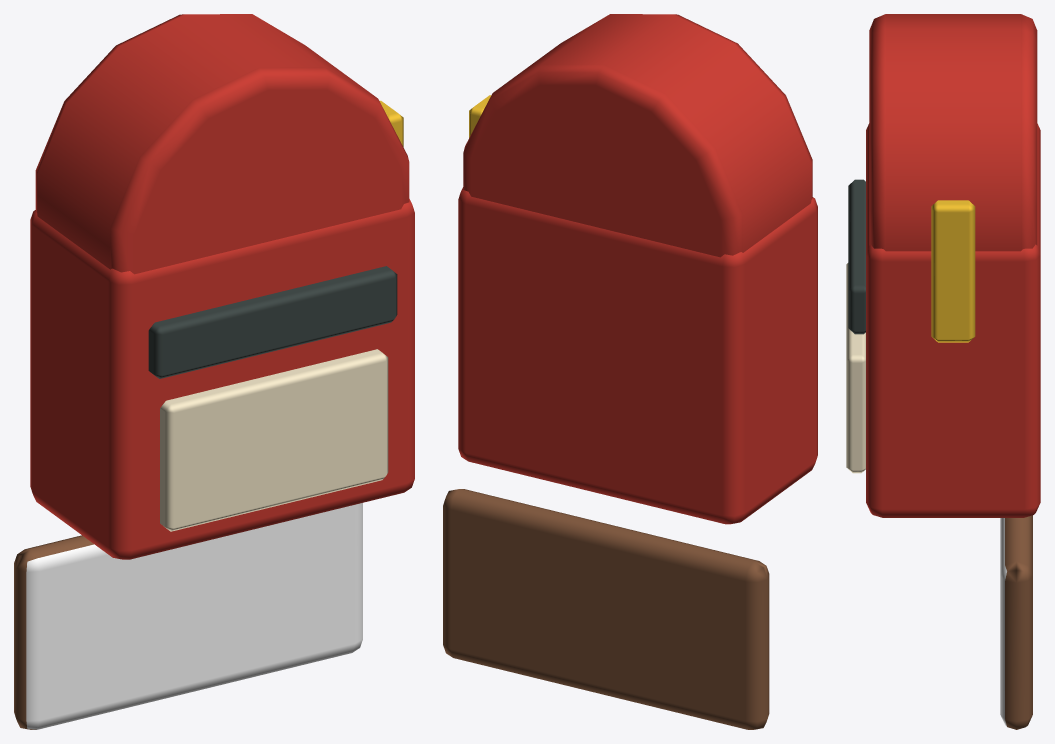
File: prop_mailbox.glb
3 renders of one model, left to right at view 1: azimuth 30°, elevation 25°; view 2: azimuth 150°, elevation 25°; view 3: azimuth 270°, elevation 25°, orthographic. The views are drawn at different scales.
Visible parts, largest first — view 1: prop_mailbox; view 2: prop_mailbox; view 3: prop_mailbox.
Boxes of the visible parts, <box> form: prop_mailbox: <box>14,14,414,729</box>; prop_mailbox: <box>443,14,817,729</box>; prop_mailbox: <box>846,14,1040,729</box>.
Bounding box in the file's own units: 0.34 × 0.635 × 0.178.
